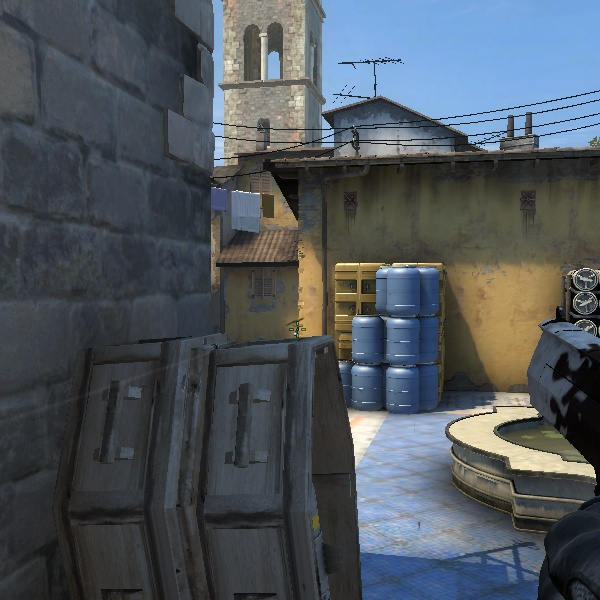t_head: (569, 259, 598, 330)
